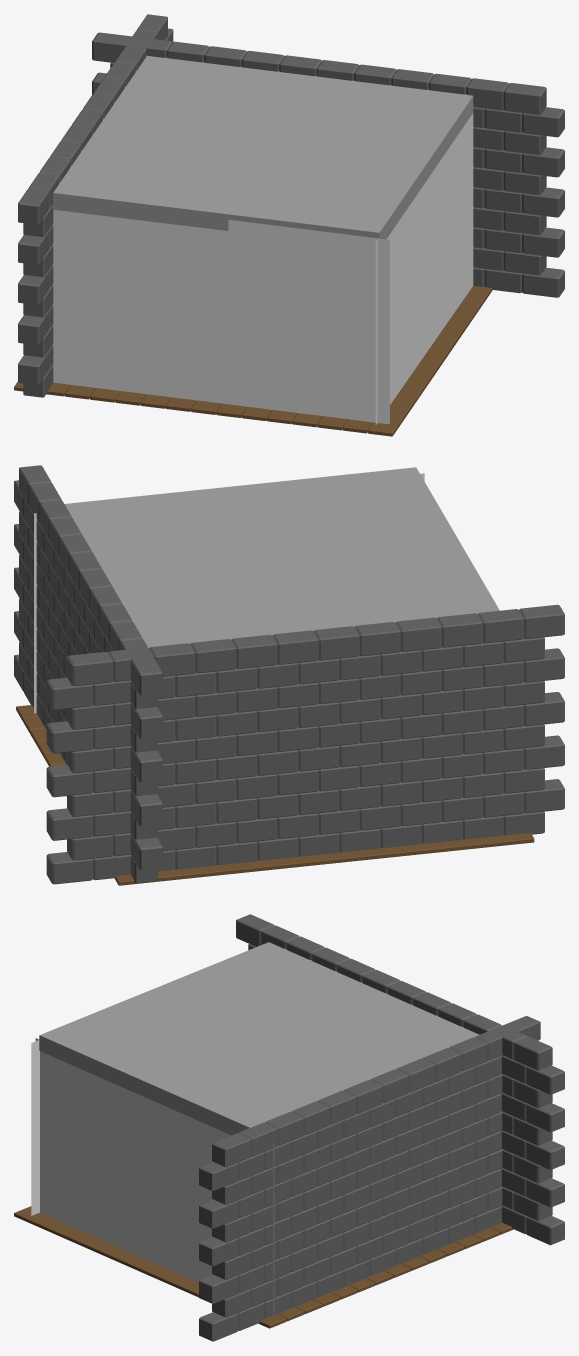
The model's file is hub2.fbx.
The picture shows the model from 3 angles, top to bottom: view 1: azimuth 30°, elevation 25°; view 2: azimuth 150°, elevation 25°; view 3: azimuth 270°, elevation 25°; orthographic projection. The views are drawn at different scales.
Parts seen in each view (by area): view 1: Plane.002, ceil, Cube.002, Cube, ceil.001; view 2: Cube, ceil, Cube.002, ceil.001, Plane.002; view 3: Cube.002, ceil, Plane.002, Cube, ceil.001.
Boxes of the visible parts, <box> form: Plane.002: <box>52,113,473,425</box>; ceil: <box>52,55,473,239</box>; Cube.002: <box>92,32,564,297</box>; Cube: <box>18,14,173,397</box>; ceil.001: <box>14,285,492,436</box>; Cube: <box>46,604,564,884</box>; ceil: <box>64,467,499,647</box>; Cube.002: <box>14,465,162,883</box>; ceil.001: <box>16,705,534,885</box>; Plane.002: <box>34,473,424,713</box>; Cube.002: <box>199,1016,540,1341</box>; ceil: <box>39,942,501,1146</box>; Plane.002: <box>31,1038,274,1316</box>; Cube: <box>236,914,564,1245</box>; ceil.001: <box>14,1206,513,1328</box>.
Bounding box in the file's own units: 21.98 × 8.06 × 21.26.
